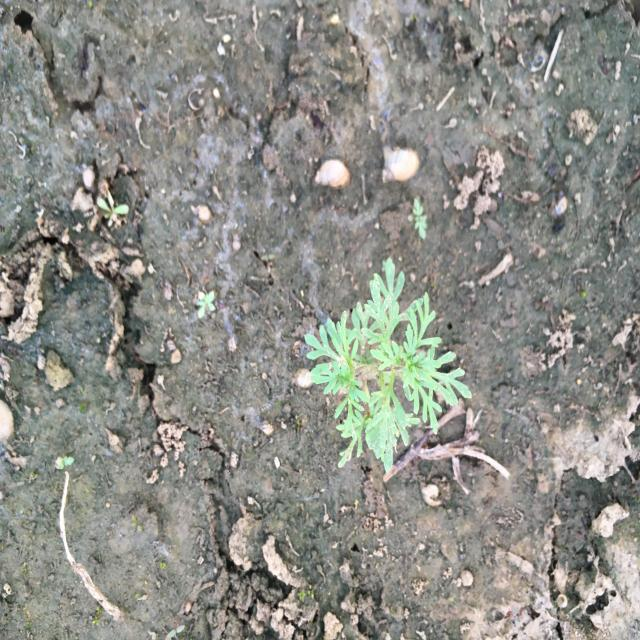Ragweed: (302, 256, 475, 475)
